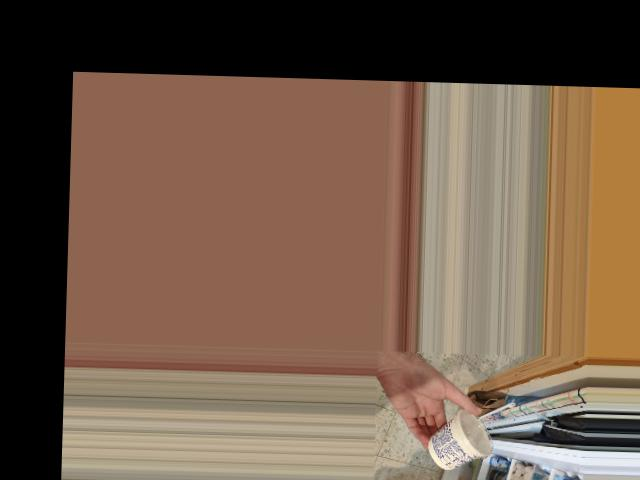cotage: (425, 410, 494, 466)
